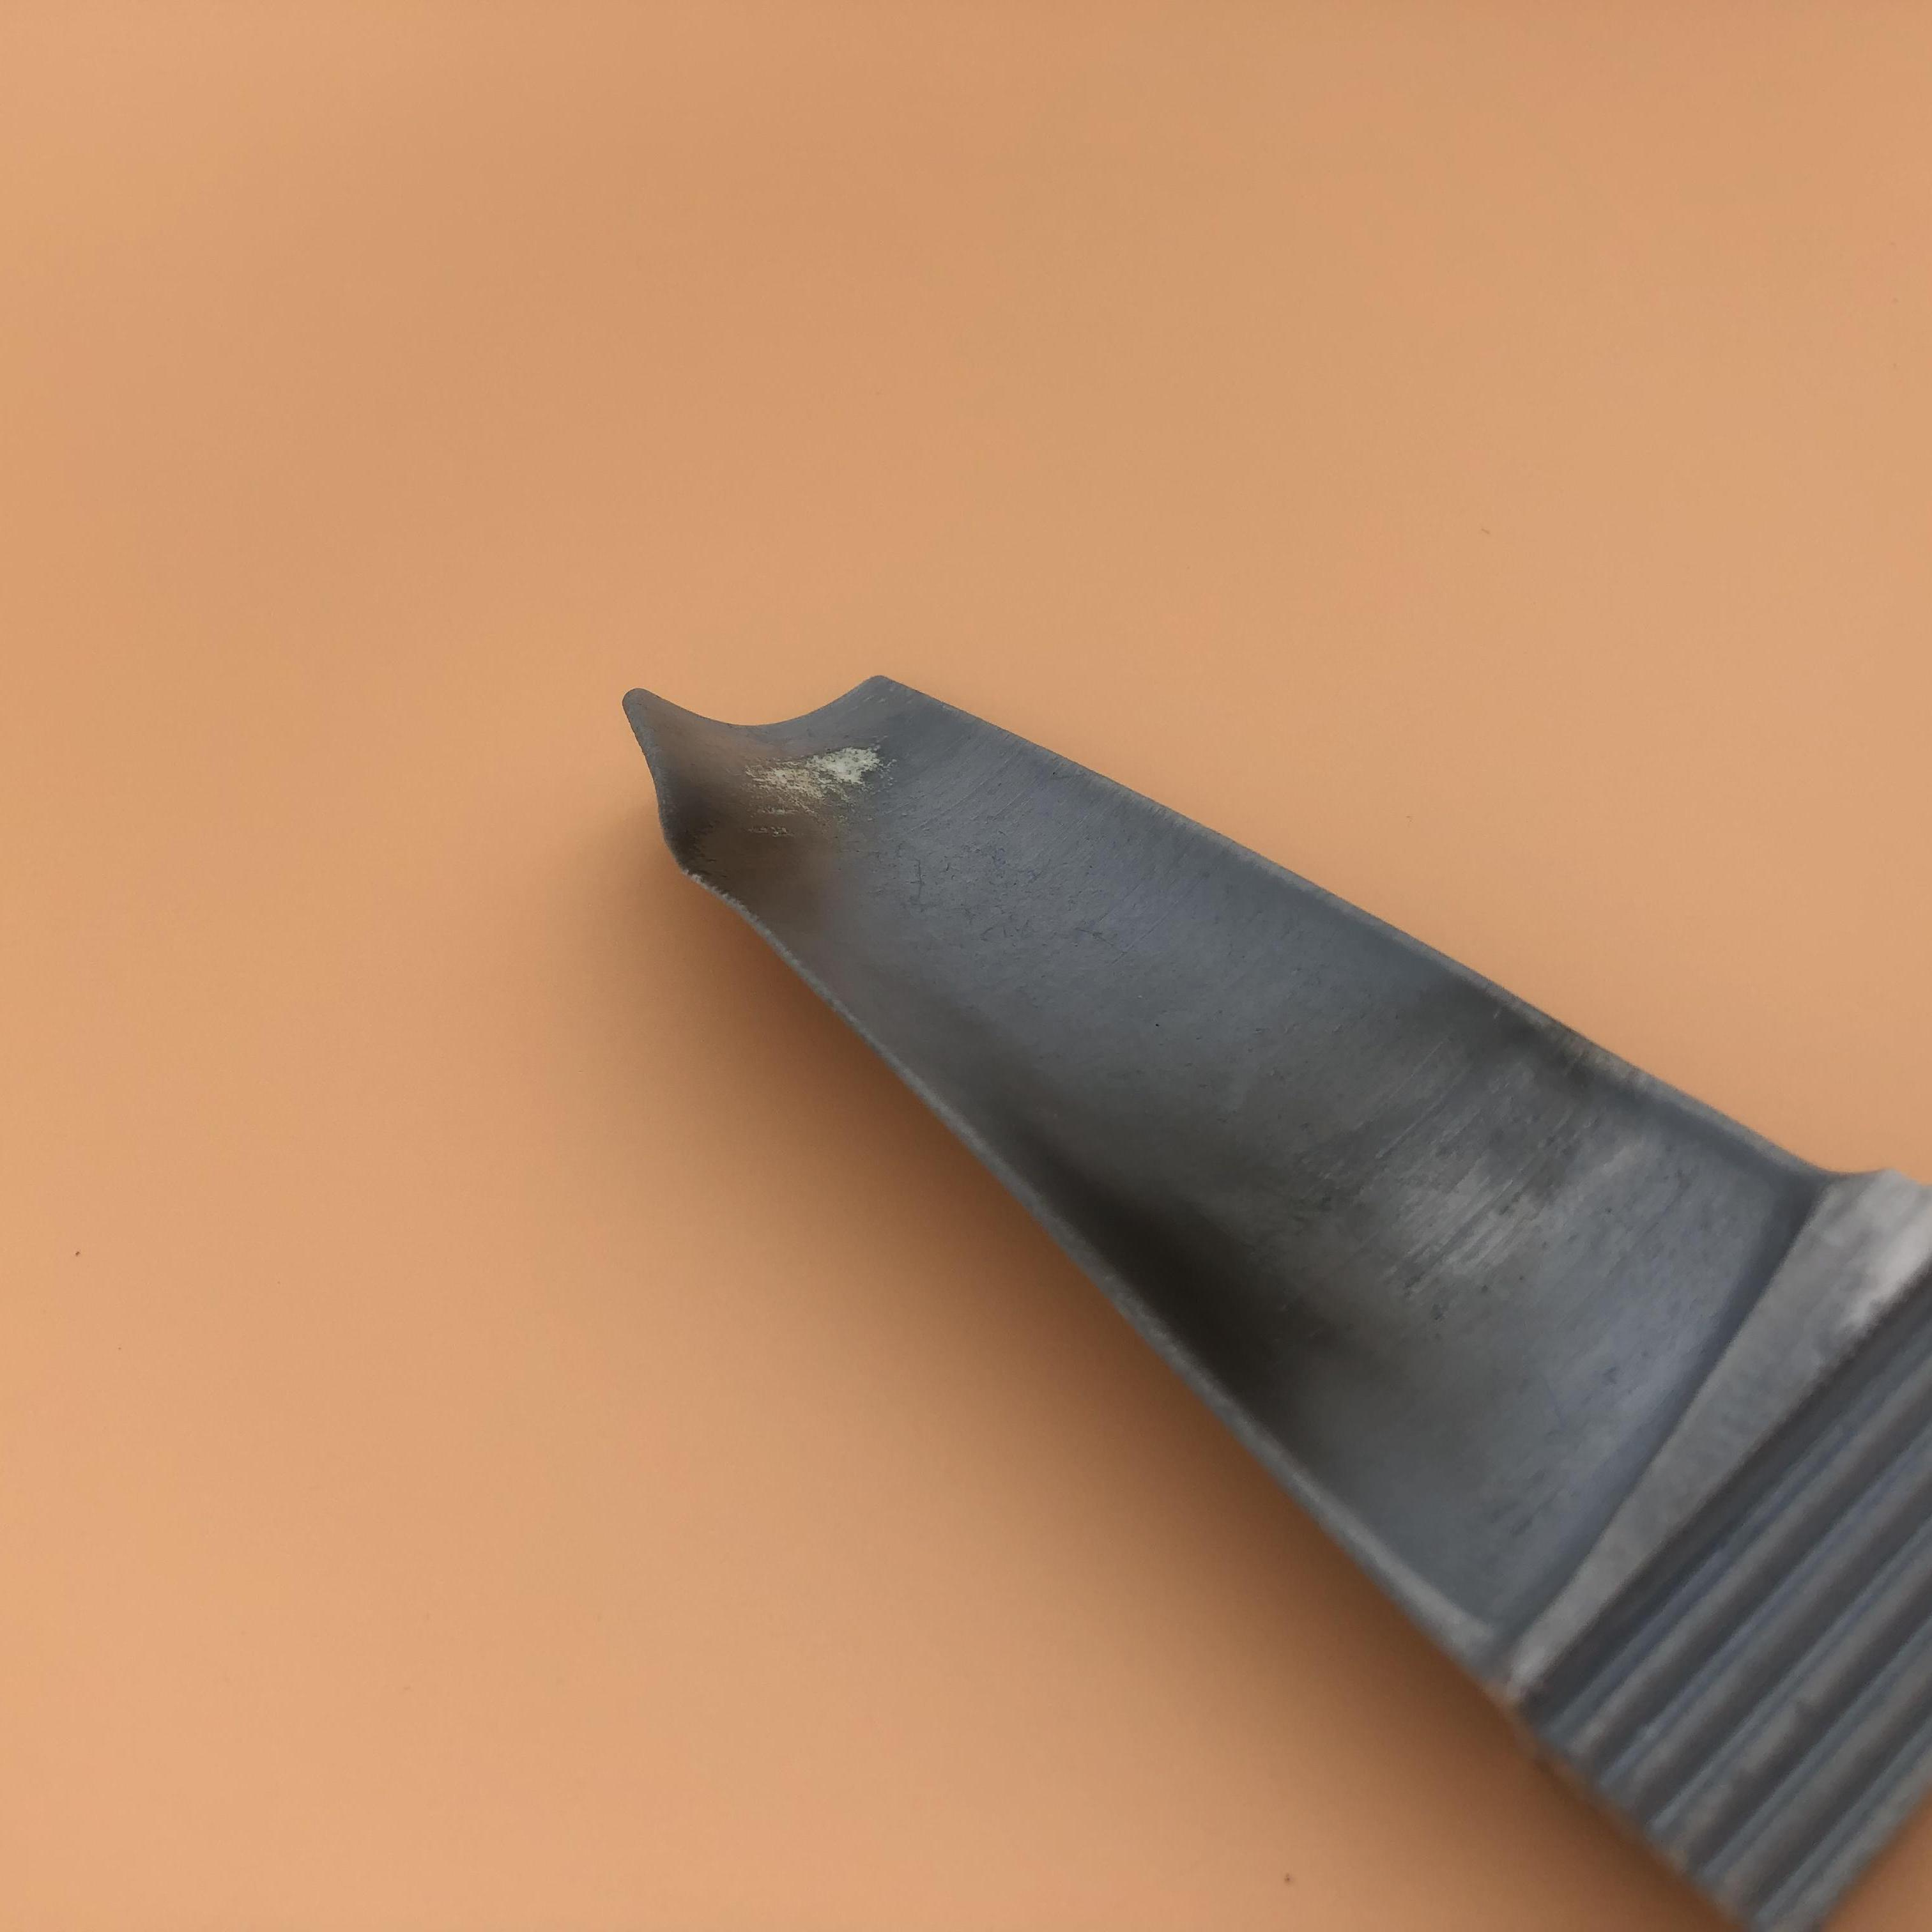ablation: (1150, 996, 1592, 1375), (649, 718, 906, 924)
